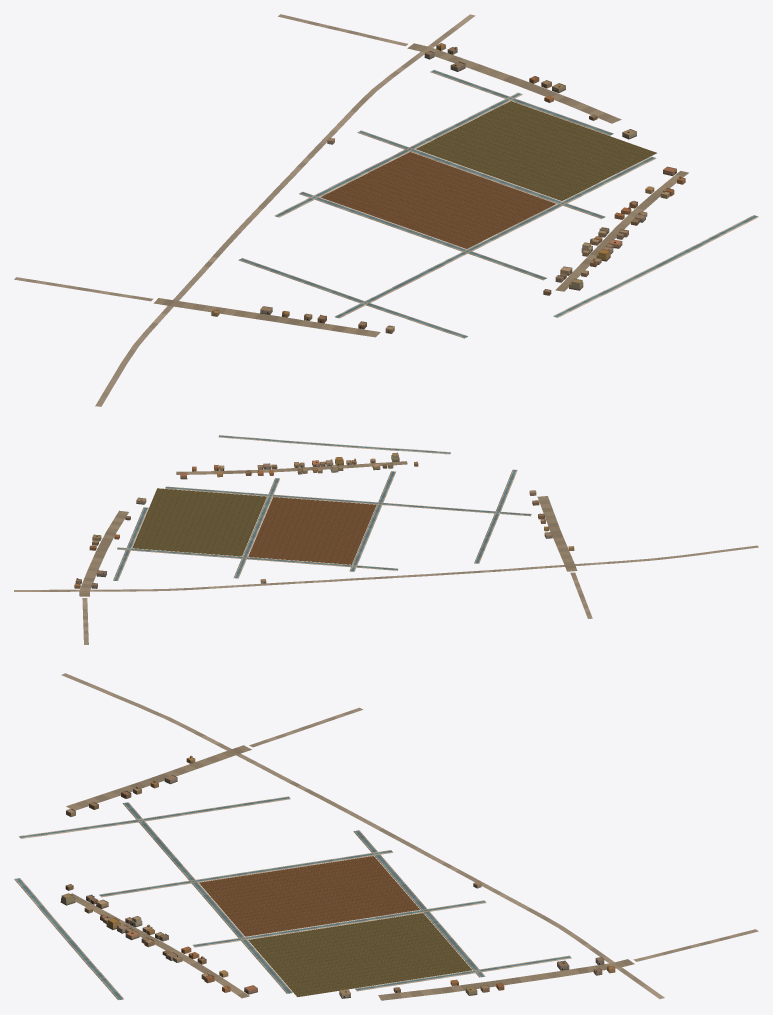
The model's file is uruk_quarter_03.glb.
The picture shows the model from 3 angles, top to bottom: view 1: azimuth 30°, elevation 25°; view 2: azimuth 150°, elevation 25°; view 3: azimuth 270°, elevation 25°; orthographic projection. The views are drawn at different scales.
Visible parts, largest first — view 1: uruk_quarter_03; view 2: uruk_quarter_03; view 3: uruk_quarter_03.
Boxes of the visible parts, left/top/right/bottom form: uruk_quarter_03: left=14, top=14, right=758, bottom=406; uruk_quarter_03: left=14, top=435, right=758, bottom=644; uruk_quarter_03: left=14, top=673, right=758, bottom=1000.
Size of the model in its own units: 794 by 8.97 by 762.
9 materials, 5 textured.
